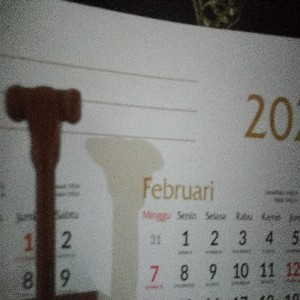palu: (4, 84, 82, 300)
